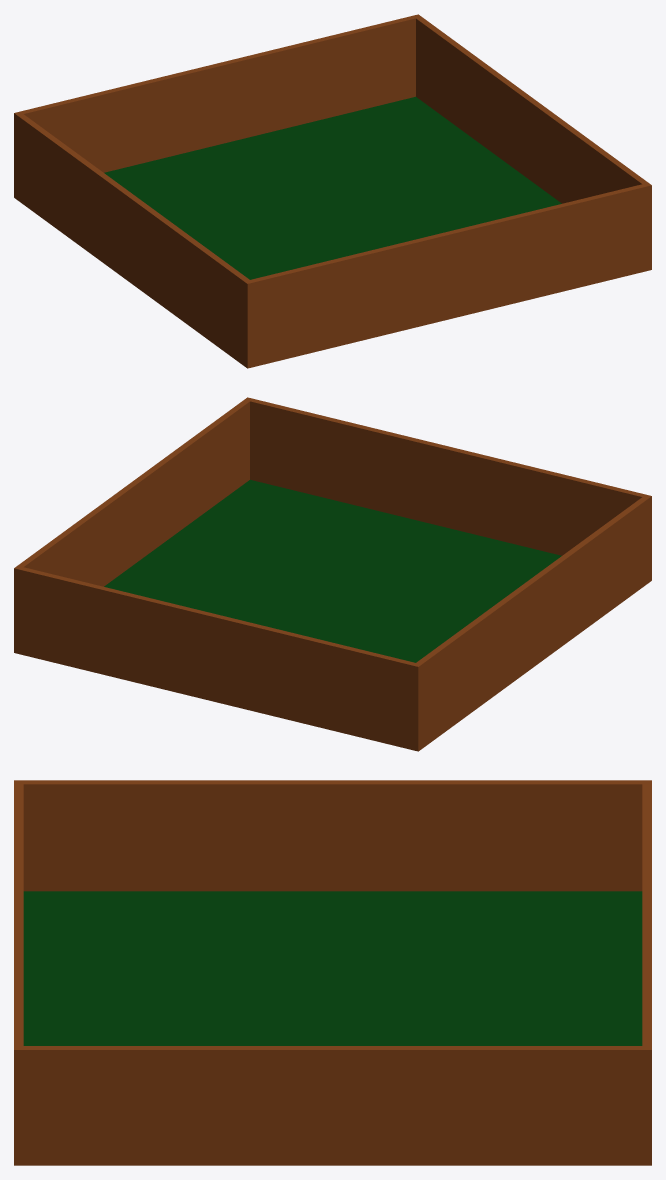
File: board.glb
The picture shows the model from 3 angles, top to bottom: view 1: azimuth 30°, elevation 25°; view 2: azimuth 150°, elevation 25°; view 3: azimuth 270°, elevation 25°; orthographic projection. The views are drawn at different scales.
Visible parts, largest first — view 1: boxth; view 2: boxth; view 3: boxth.
Boxes of the visible parts, box(x1,y1,x2,y2) form: boxth: box(14, 14, 651, 368); boxth: box(14, 397, 651, 751); boxth: box(14, 780, 651, 1165).
Size of the model in its own units: 40 by 8 by 40.
